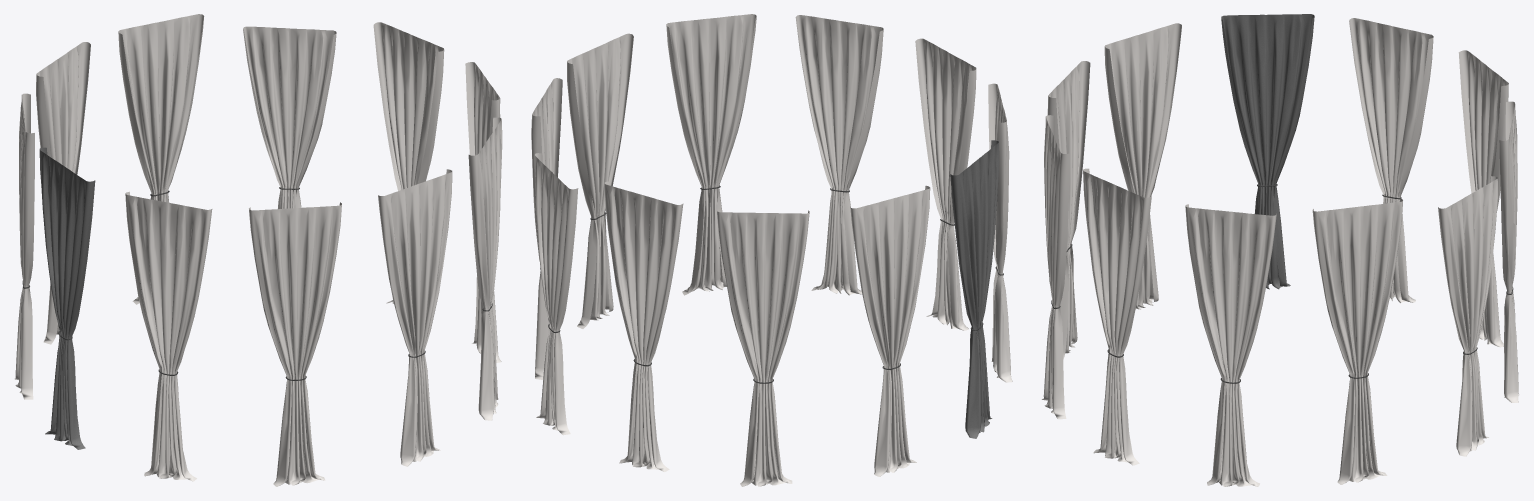
Rendered from gpdl1.gltf.
3 renders of one model, left to right at view 1: azimuth 30°, elevation 25°; view 2: azimuth 150°, elevation 25°; view 3: azimuth 270°, elevation 25°, orthographic.
Visible parts, largest first — view 1: gpd1.007; view 2: gpd1.007; view 3: gpd1.007.
Boxes of the visible parts, bbox=[...] form: gpd1.007: bbox=[15, 14, 502, 486]; gpd1.007: bbox=[531, 14, 1012, 486]; gpd1.007: bbox=[1042, 14, 1519, 486].
Bounding box in the file's own units: 6.91 × 4.28 × 6.8.
Materials: 22 (1 with a texture image).
